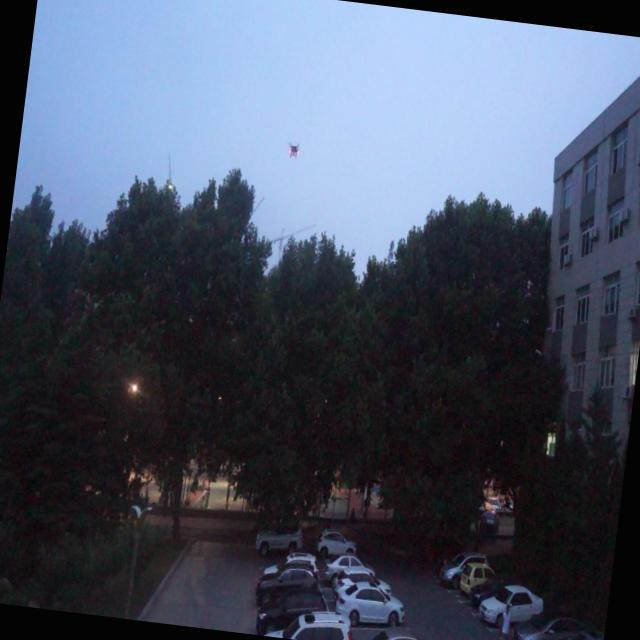drone: (282, 137, 304, 164)
